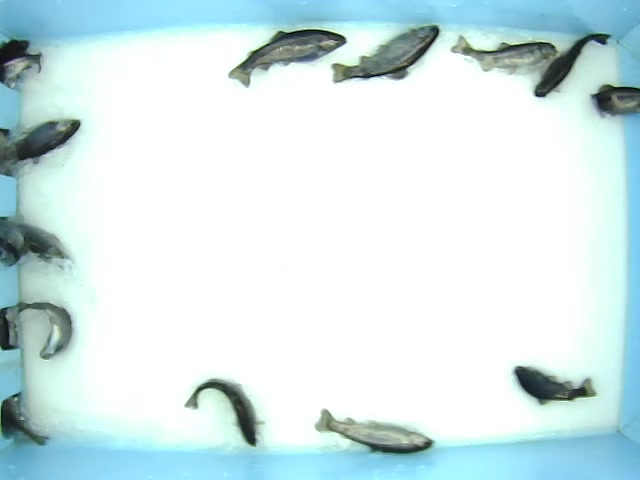fish: (225, 27, 346, 87), (329, 21, 440, 86), (313, 405, 435, 455), (184, 377, 268, 447), (529, 30, 613, 99), (449, 32, 559, 74), (511, 363, 597, 407), (12, 299, 74, 360)
